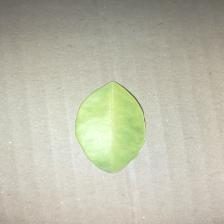greening: (70, 78, 155, 177)
